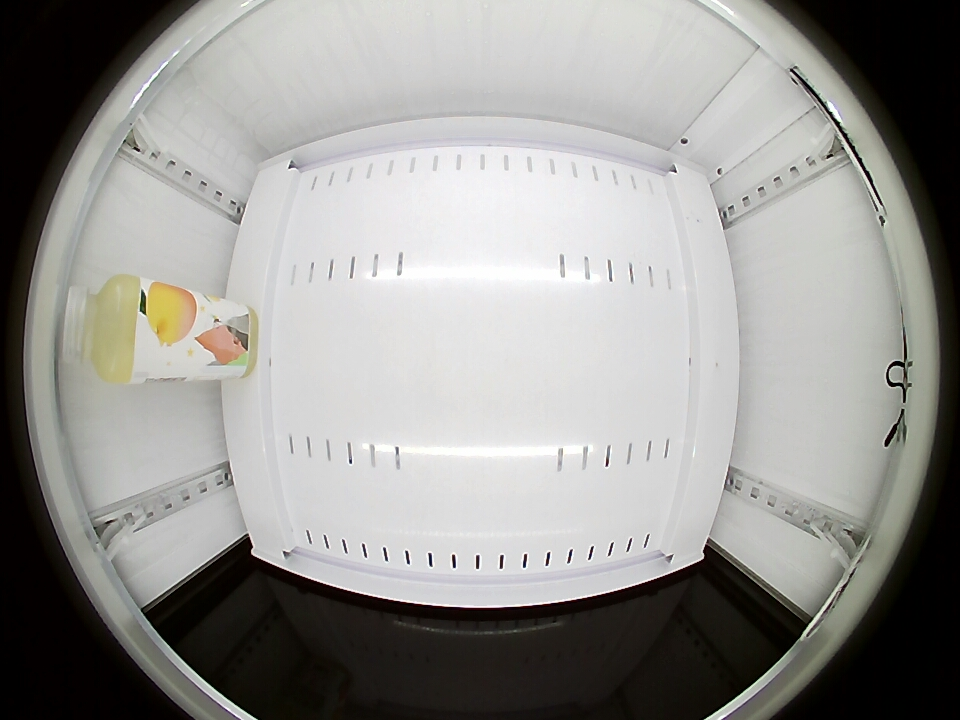chapai2: (72, 273, 155, 384)
